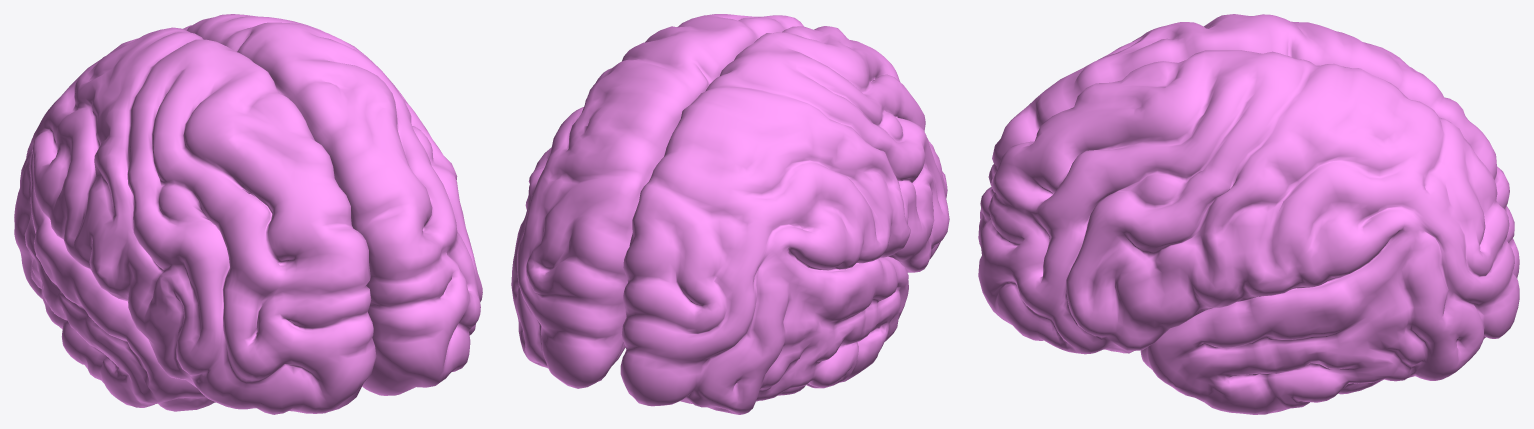
File: brain8.glb
The picture shows the model from 3 angles, left to right: view 1: azimuth 30°, elevation 25°; view 2: azimuth 150°, elevation 25°; view 3: azimuth 270°, elevation 25°; orthographic projection. The views are drawn at different scales.
Visible parts, largest first — view 1: V1_1:jianmian_03:Group1; view 2: V1_1:jianmian_03:Group1; view 3: V1_1:jianmian_03:Group1.
Boxes of the visible parts, box(x1,y1,x2,y2) form: V1_1:jianmian_03:Group1: box(14, 14, 482, 414); V1_1:jianmian_03:Group1: box(511, 14, 949, 414); V1_1:jianmian_03:Group1: box(978, 14, 1519, 414).
Bounding box in the file's own units: 1.62 × 1.49 × 2.29.
